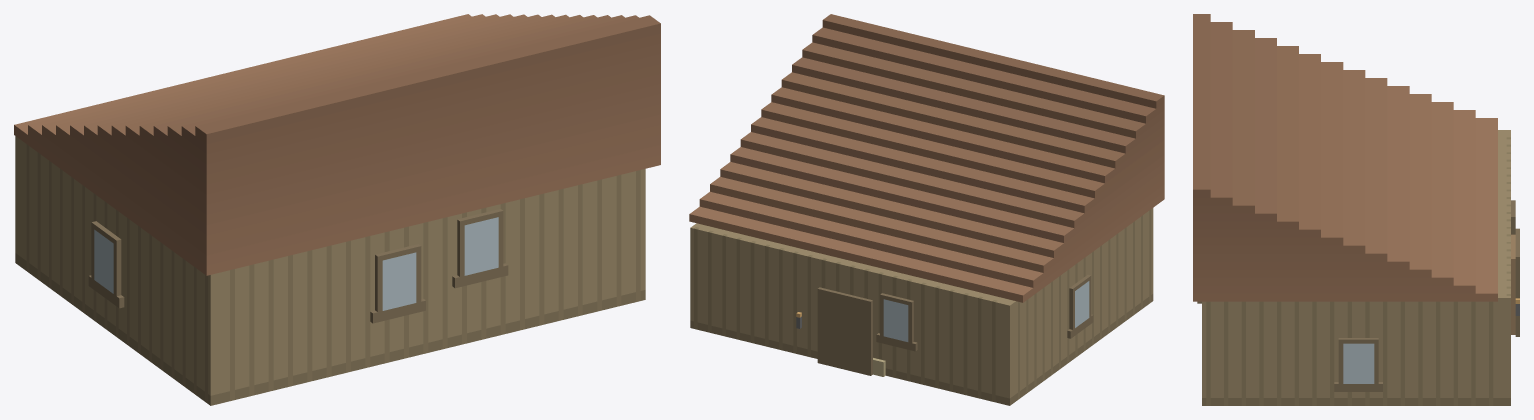
File: peleteria_02.glb
3 renders of one model, left to right at view 1: azimuth 30°, elevation 25°; view 2: azimuth 150°, elevation 25°; view 3: azimuth 270°, elevation 25°, orthographic. The views are drawn at different scales.
Parts seen in each view (by area): view 1: peleteria_02; view 2: peleteria_02; view 3: peleteria_02.
Part boxes in pixels (x1=…): peleteria_02: x1=14, y1=14, x2=660, y2=405; peleteria_02: x1=689, y1=14, x2=1164, y2=405; peleteria_02: x1=1193, y1=14, x2=1519, y2=405.
Size of the model in its own units: 9.4 by 5.5 by 7.4.
